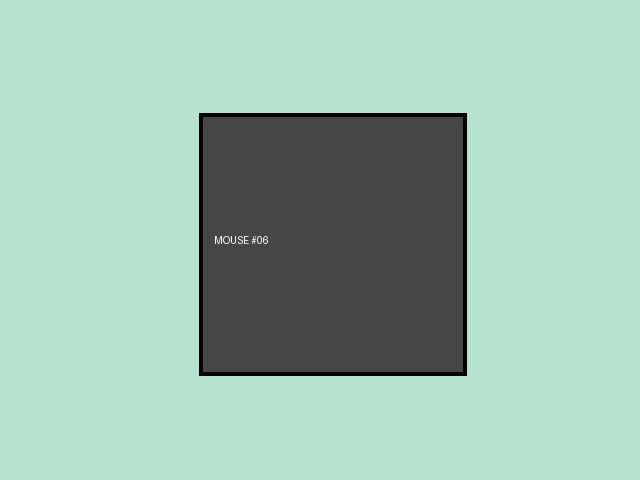mouse: (199, 113, 466, 375)
